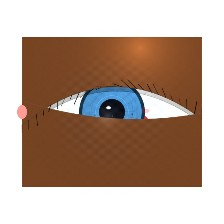hemorrhage_spot: (76, 87, 160, 154)
